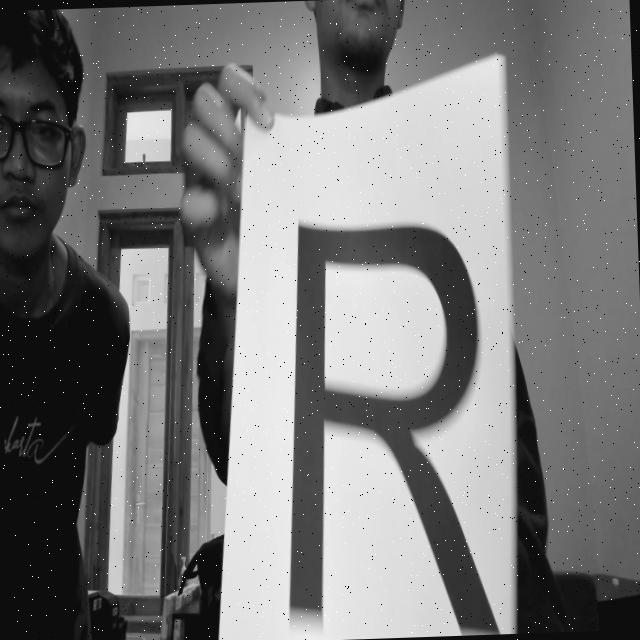r: (261, 173, 511, 640)
